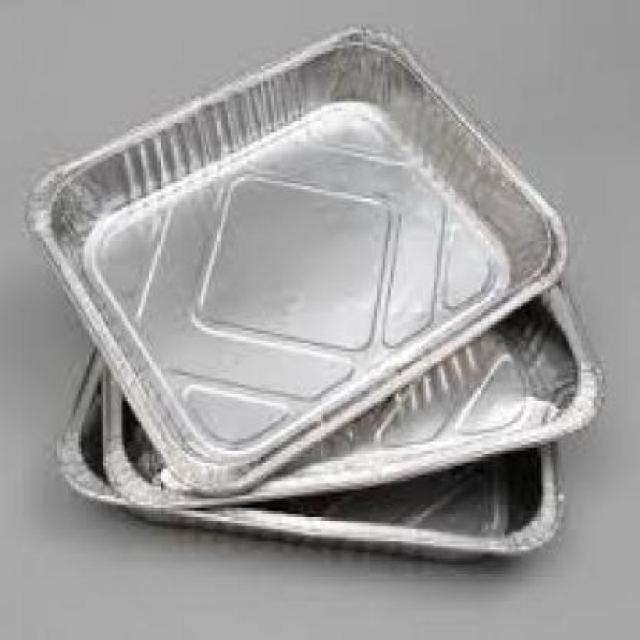METAL: (21, 21, 568, 490), (98, 213, 602, 502), (54, 273, 561, 556)
